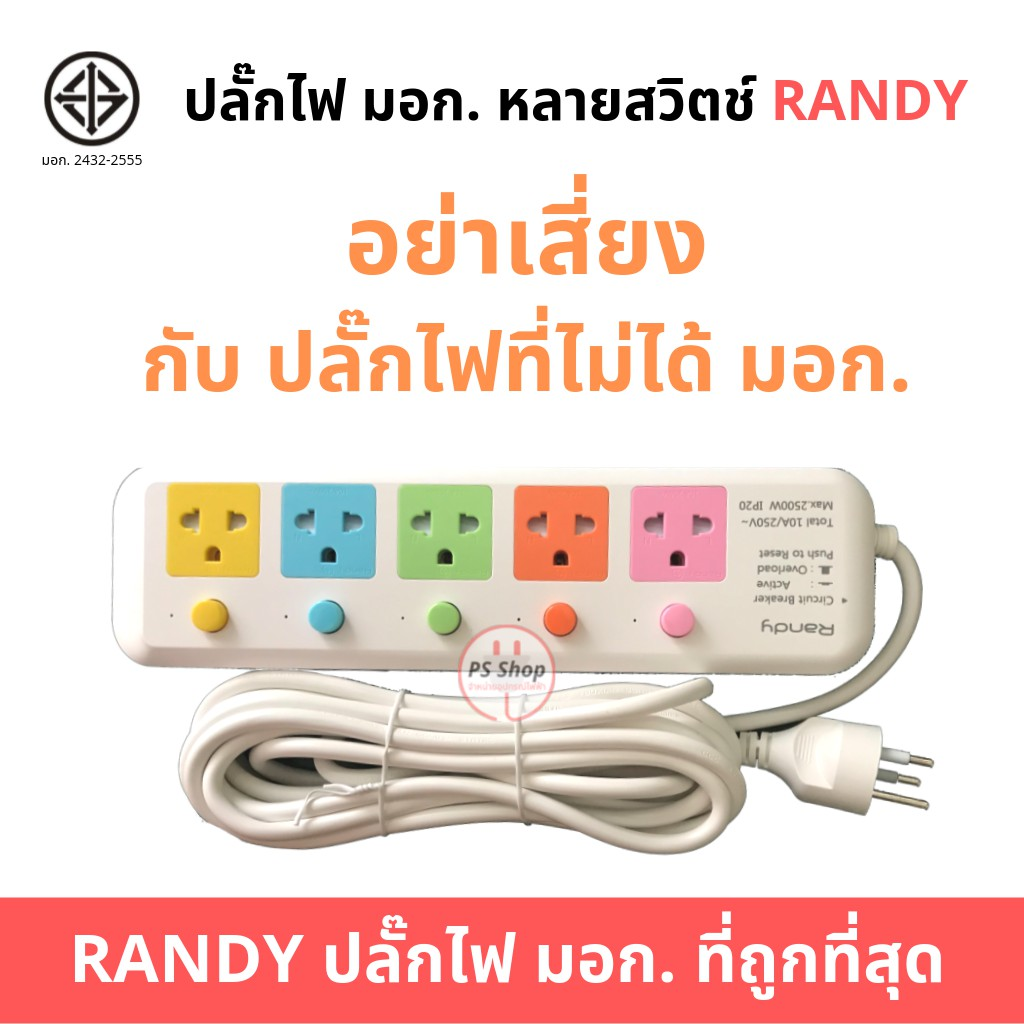Three_eye_plug: (94, 449, 916, 771)
